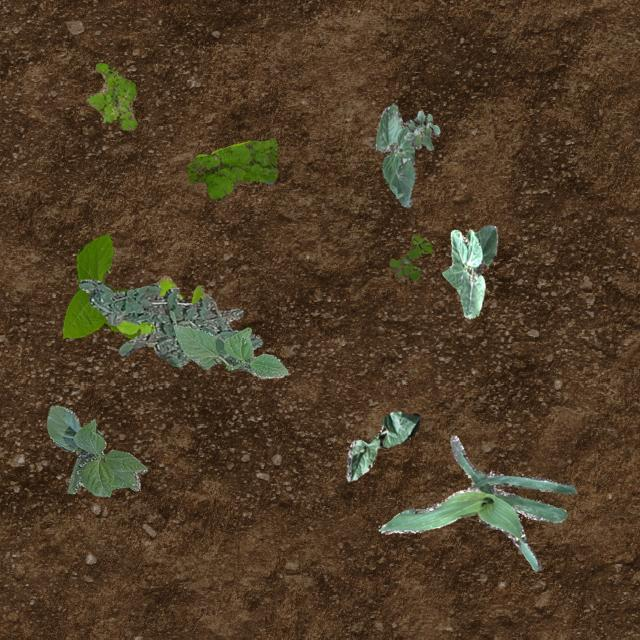crop: (378, 434, 574, 570), (46, 404, 146, 496), (61, 232, 140, 338), (172, 324, 288, 376), (344, 410, 420, 480), (441, 224, 496, 318), (374, 102, 414, 206)
weed: (78, 279, 262, 365), (186, 136, 276, 200), (115, 274, 208, 334), (86, 62, 136, 128), (388, 233, 432, 280), (402, 110, 438, 150)
